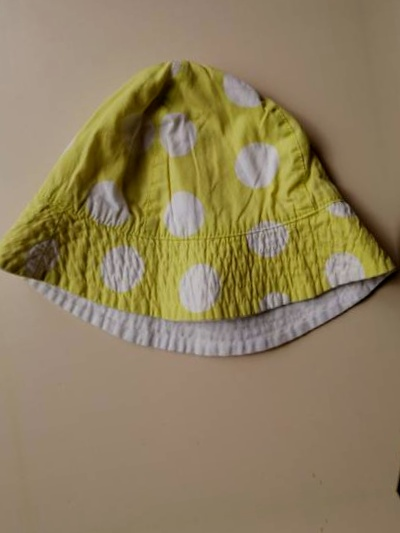Hat: (0, 41, 396, 369), (375, 0, 400, 312)
